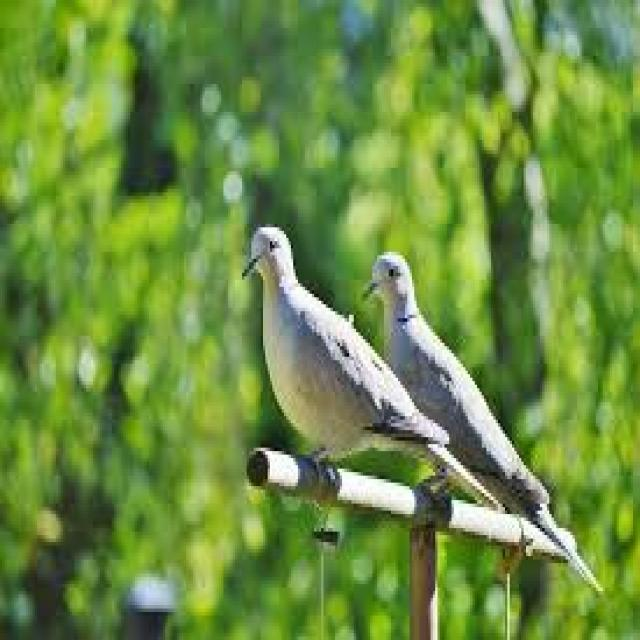bird: (203, 147, 462, 563), (369, 220, 583, 591)
